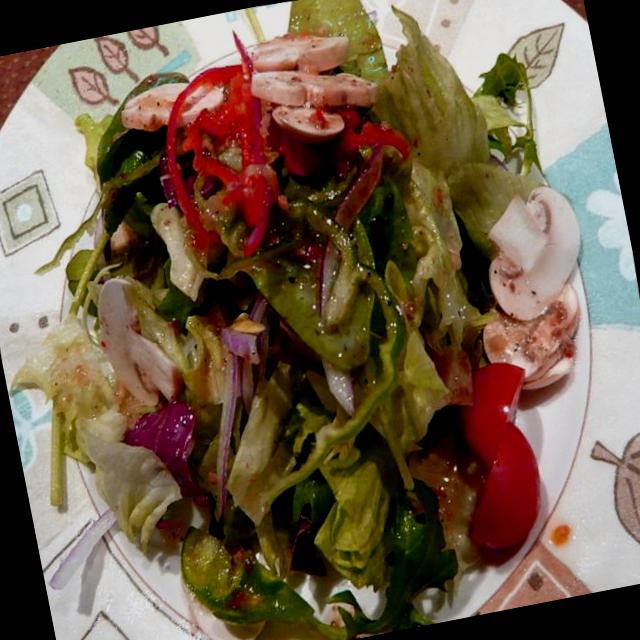Green Salad: (12, 12, 605, 630)
